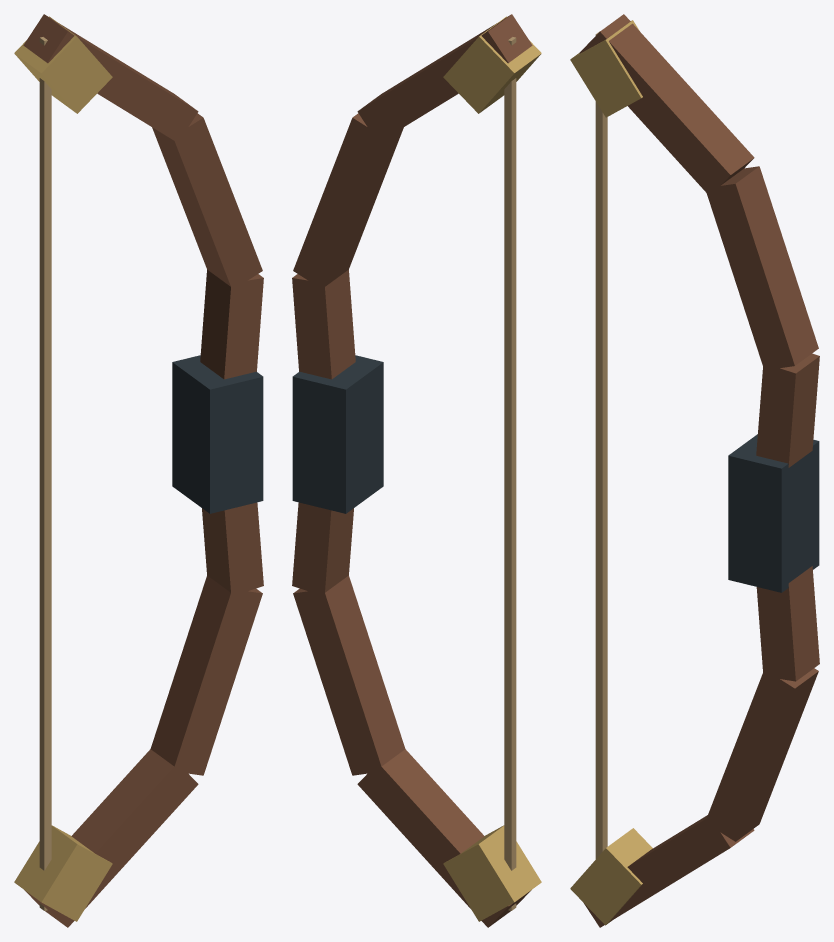
File: fixed-bow-lod1.glb
3 views of the same model, side by side, from view 1: azimuth 30°, elevation 25°; view 2: azimuth 150°, elevation 25°; view 3: azimuth 330°, elevation 25° (orthographic).
Visible parts, largest first — view 1: piece_whole; view 2: piece_whole; view 3: piece_whole.
Boxes of the visible parts, left/top/right/bottom form: piece_whole: left=14, top=14, right=263, bottom=927; piece_whole: left=292, top=14, right=541, bottom=927; piece_whole: left=570, top=14, right=819, bottom=927.
Size of the model in its own units: 0.3775 by 1.44 by 0.11.
